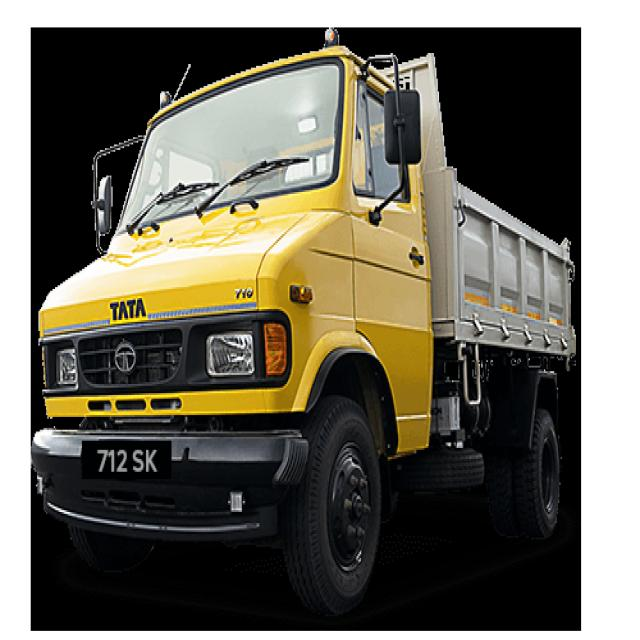dump_truck: (26, 20, 587, 623)
